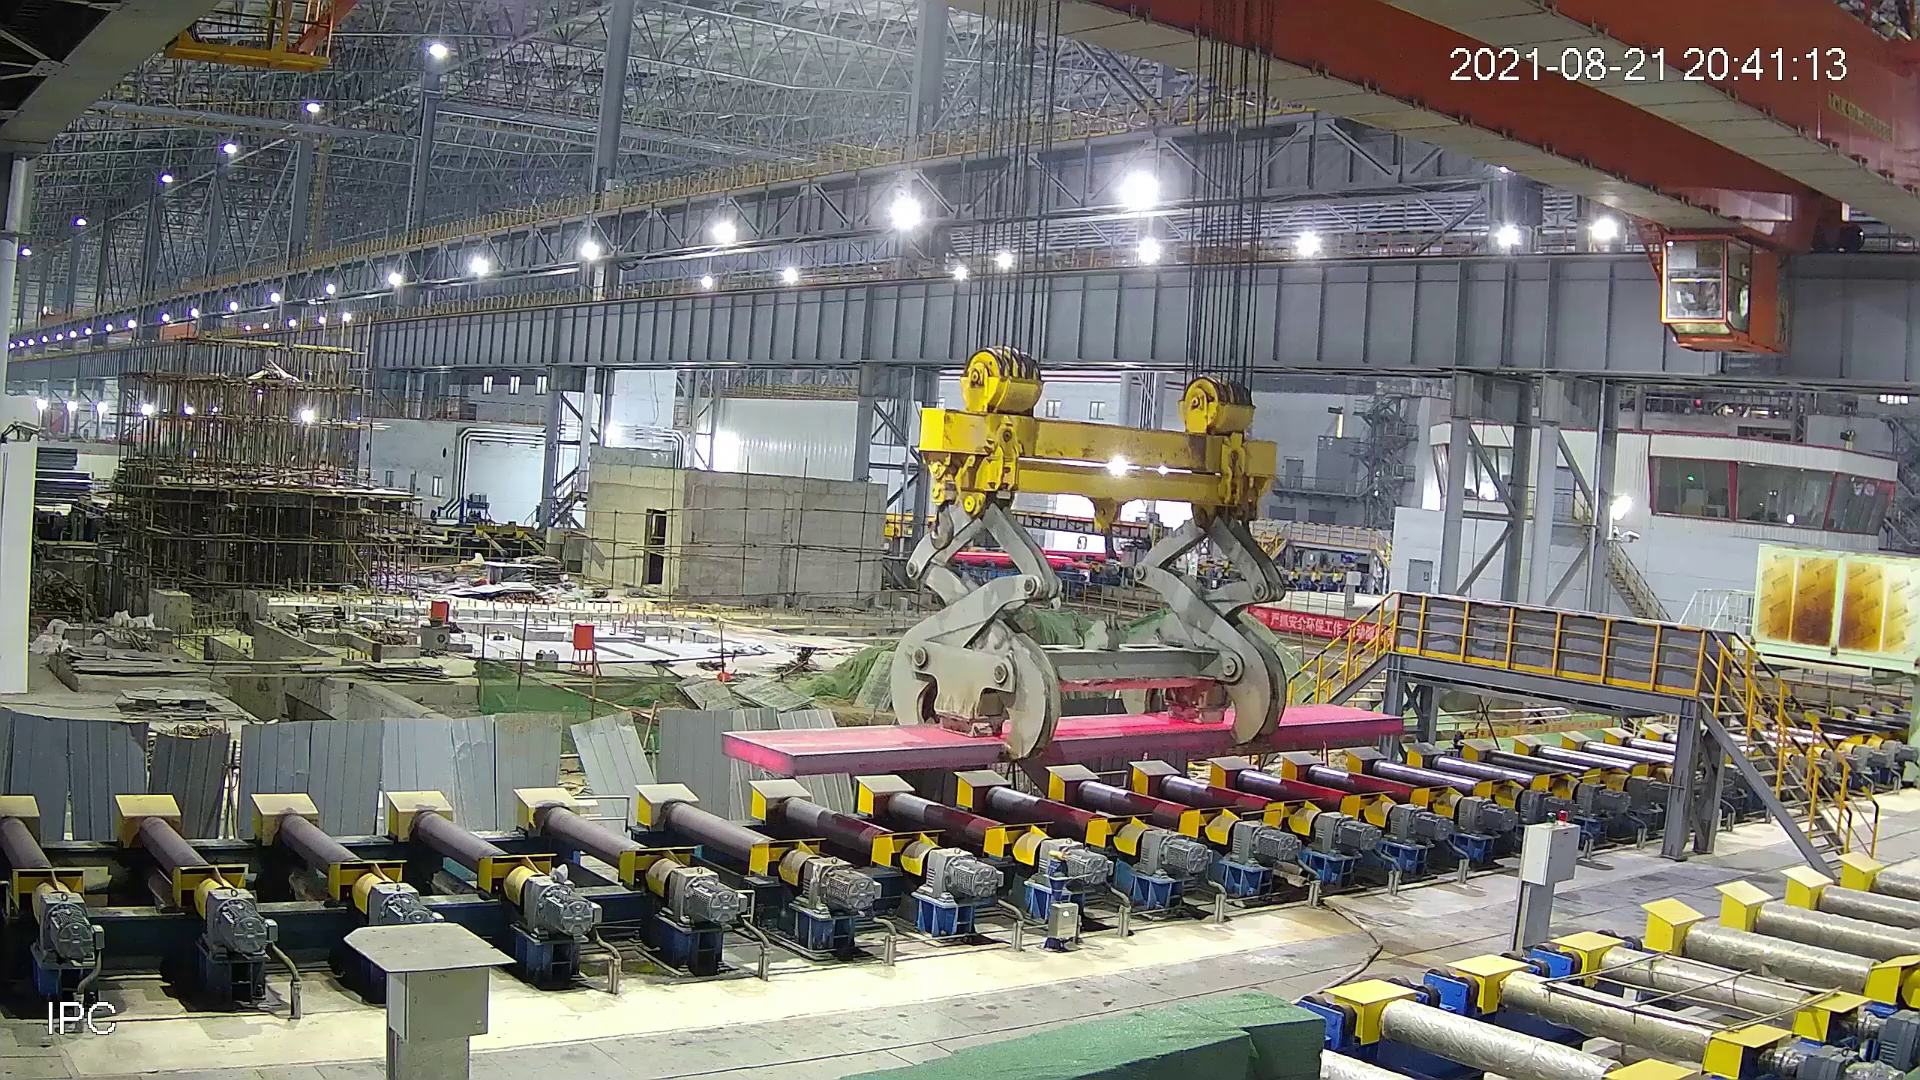craneandslab: (716, 328, 1427, 779)
